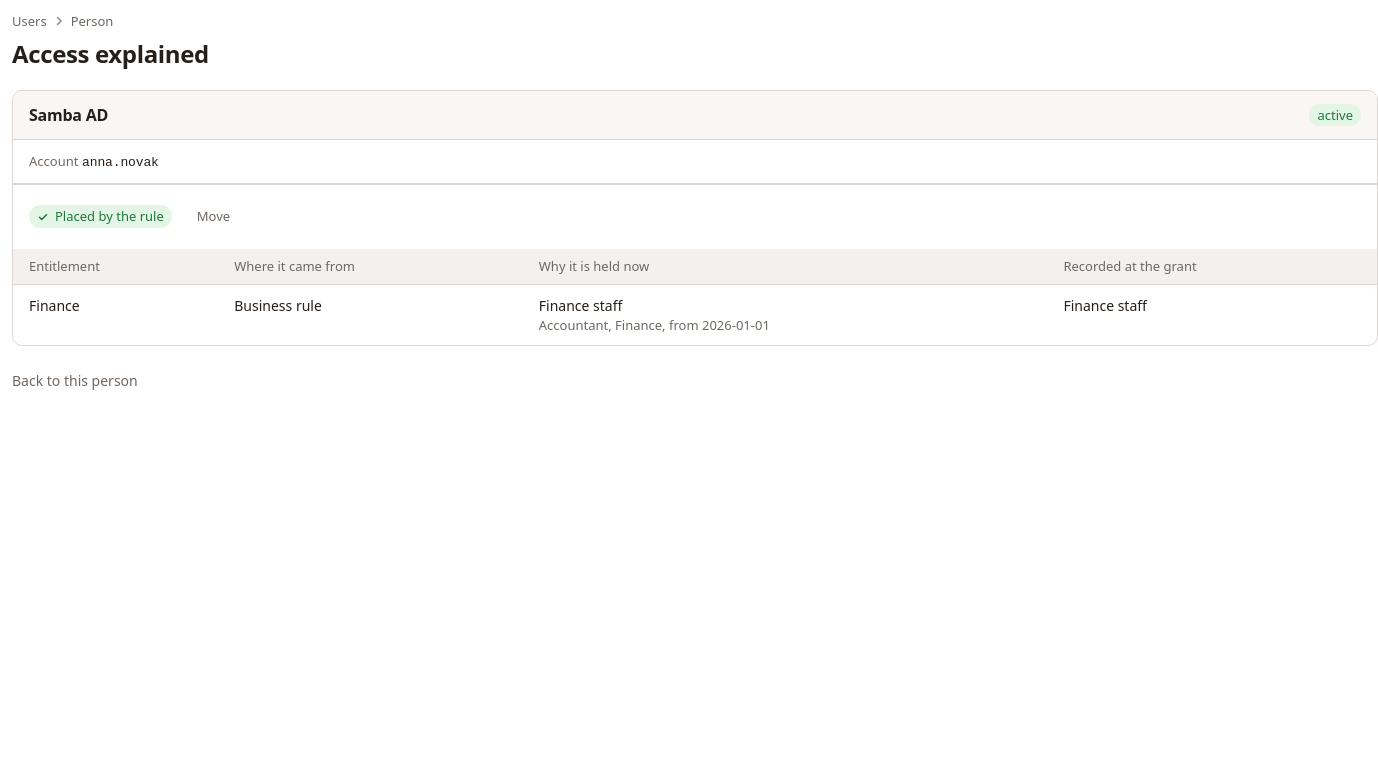
Test: the placement control › says the move is recorded when the directory refused it
Click the button "Move" at (213, 217), box [184,201,243,233]
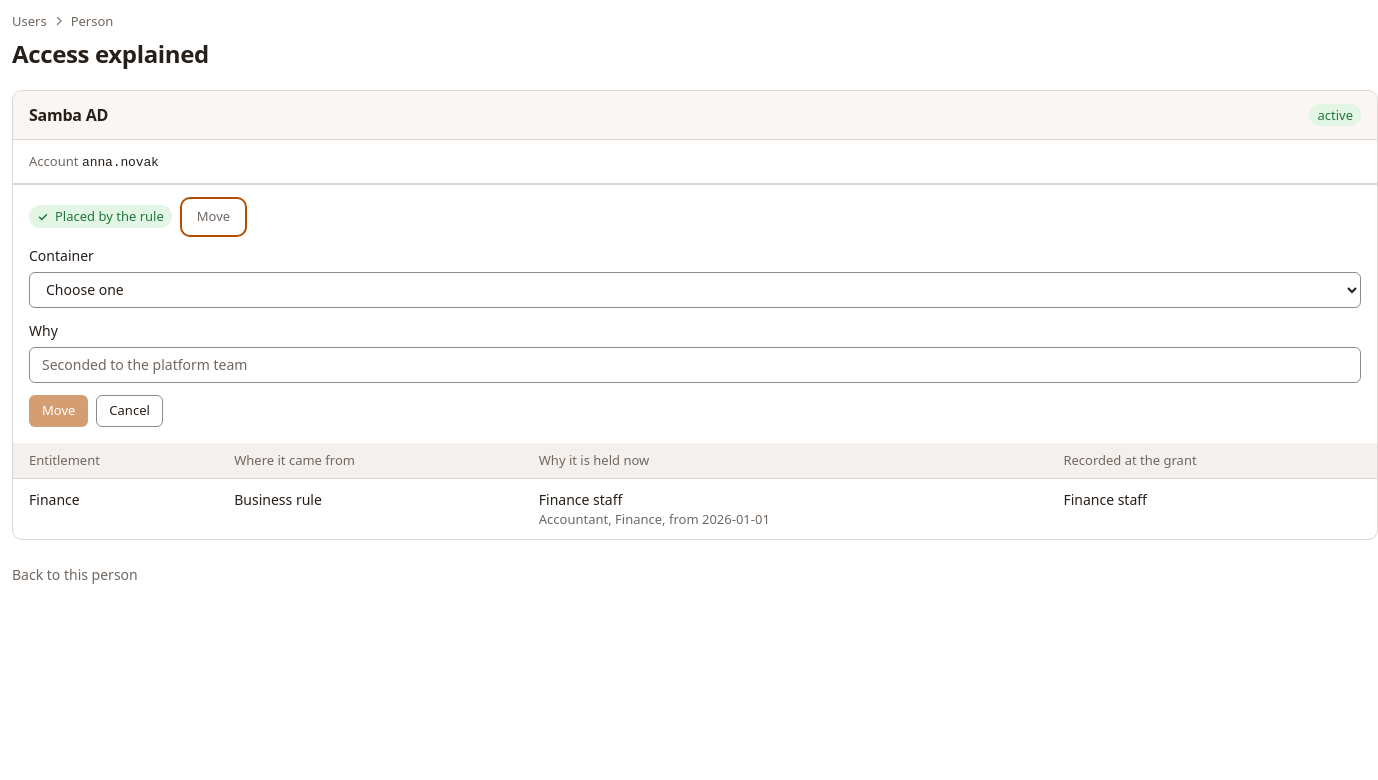
Select "OU=Finance,DC=acme,DC=test" in the dropdown labelled "Container" at (695, 290), box [29,272,1361,308]
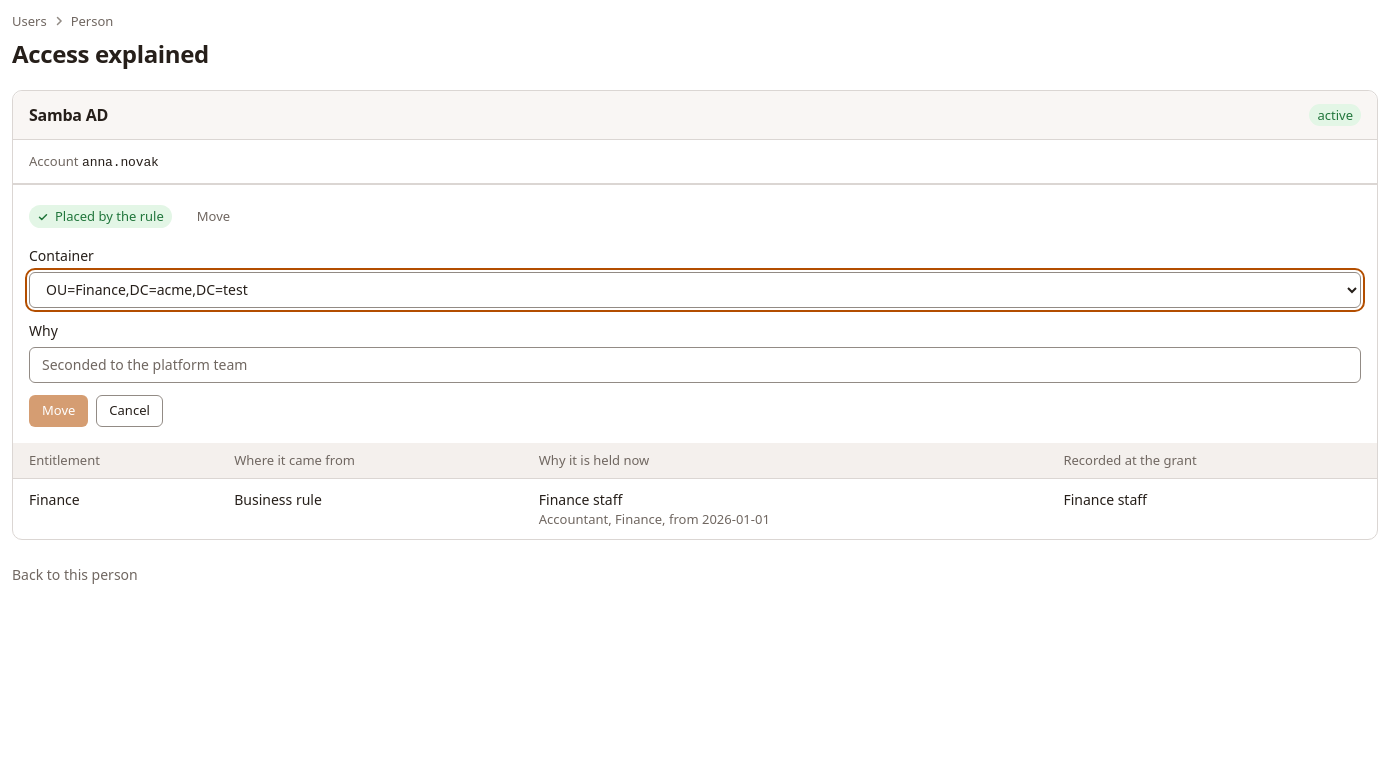
Type "moved after the reorg" into the field labelled "Why" at (695, 365), box [29,347,1361,383]
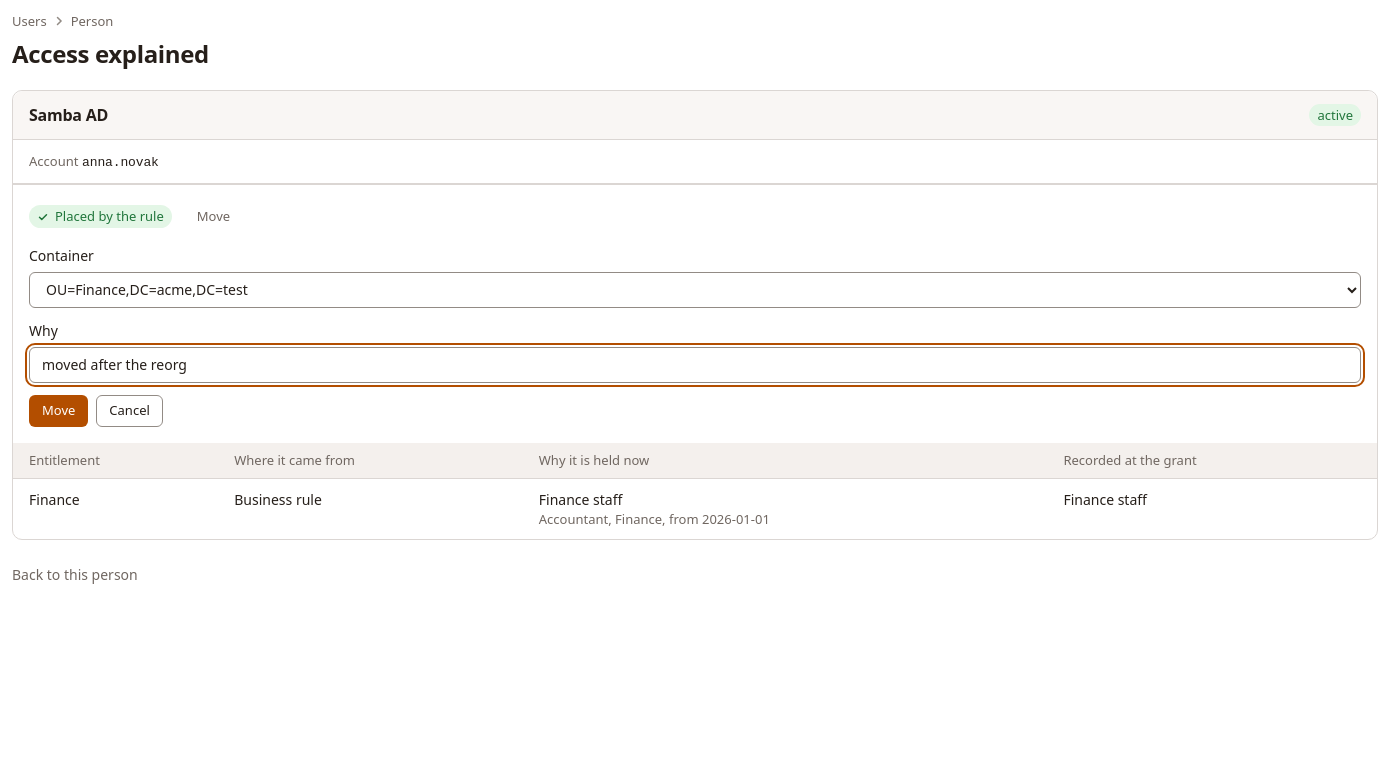
Click the button "Move" below "Container" at (59, 411), box [29,395,88,427]
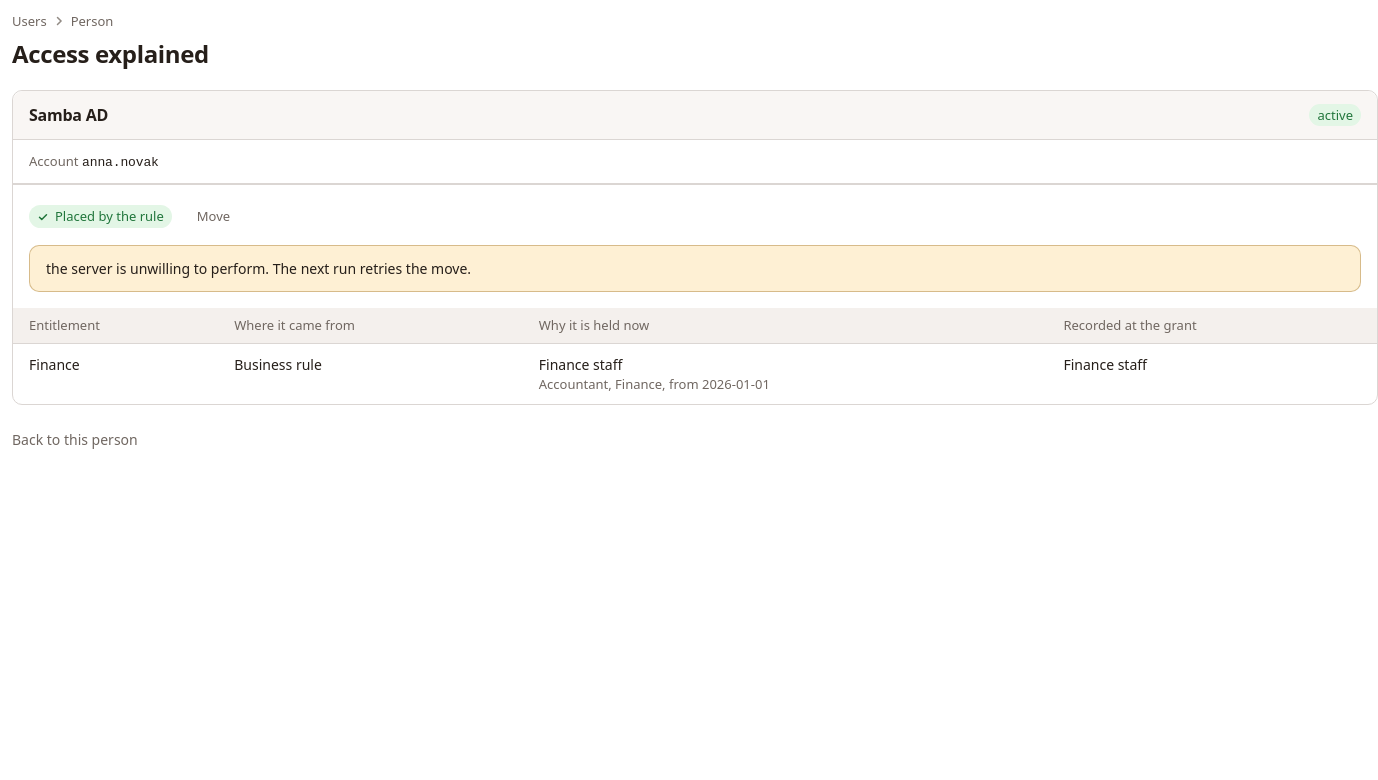
Check: the text "next run retries the move" is shown, box [46,259,471,278]
